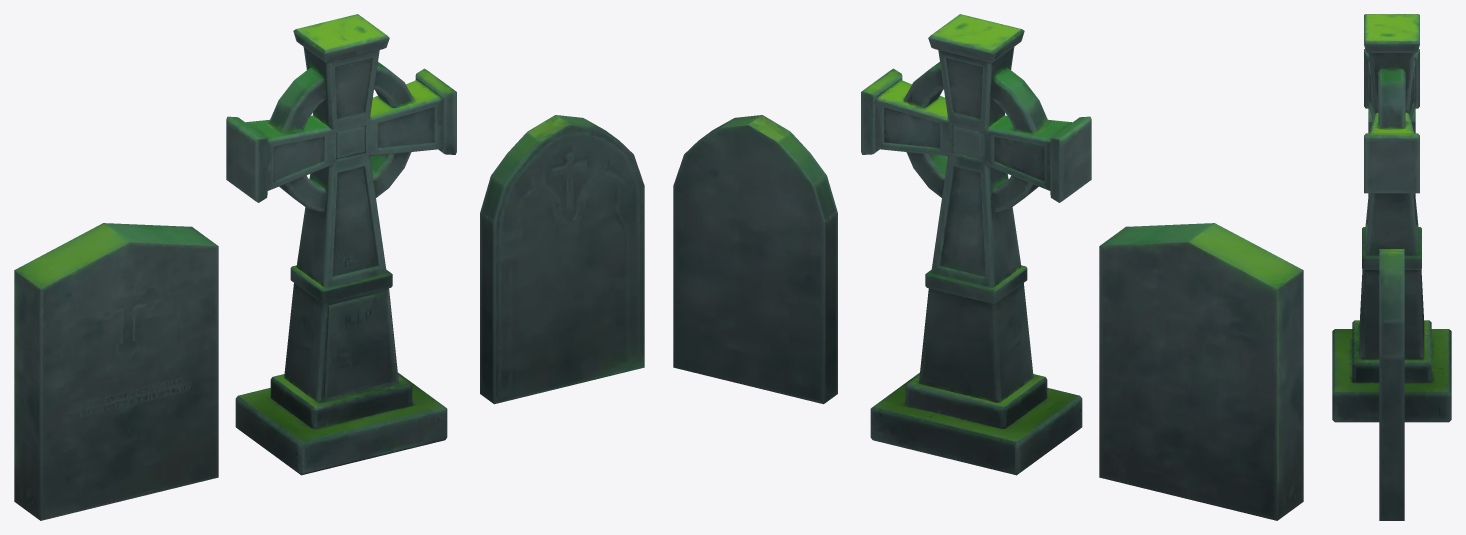
File: tombstones.glb
3 renders of one model, left to right at view 1: azimuth 30°, elevation 25°; view 2: azimuth 150°, elevation 25°; view 3: azimuth 270°, elevation 25°, orthographic. The views are drawn at different scales.
Visible parts, largest first — view 1: tumolo_low, tumulo_02_low, tumulo_01_low; view 2: tumolo_low, tumulo_02_low, tumulo_01_low; view 3: tumolo_low, tumulo_01_low, tumulo_02_low.
Part boxes in pixels (box(x1,y1,x2,y2)): tumolo_low: box(226, 14, 456, 475); tumulo_02_low: box(14, 223, 218, 520); tumulo_01_low: box(480, 115, 644, 404); tumolo_low: box(861, 14, 1091, 475); tumulo_02_low: box(1099, 223, 1303, 520); tumulo_01_low: box(673, 115, 837, 404); tumolo_low: box(1332, 14, 1451, 422); tumulo_01_low: box(1379, 249, 1404, 520); tumulo_02_low: box(1368, 108, 1415, 195).
Size of the model in its own units: 306 by 193 by 57.3.
3 materials, 3 textured.
